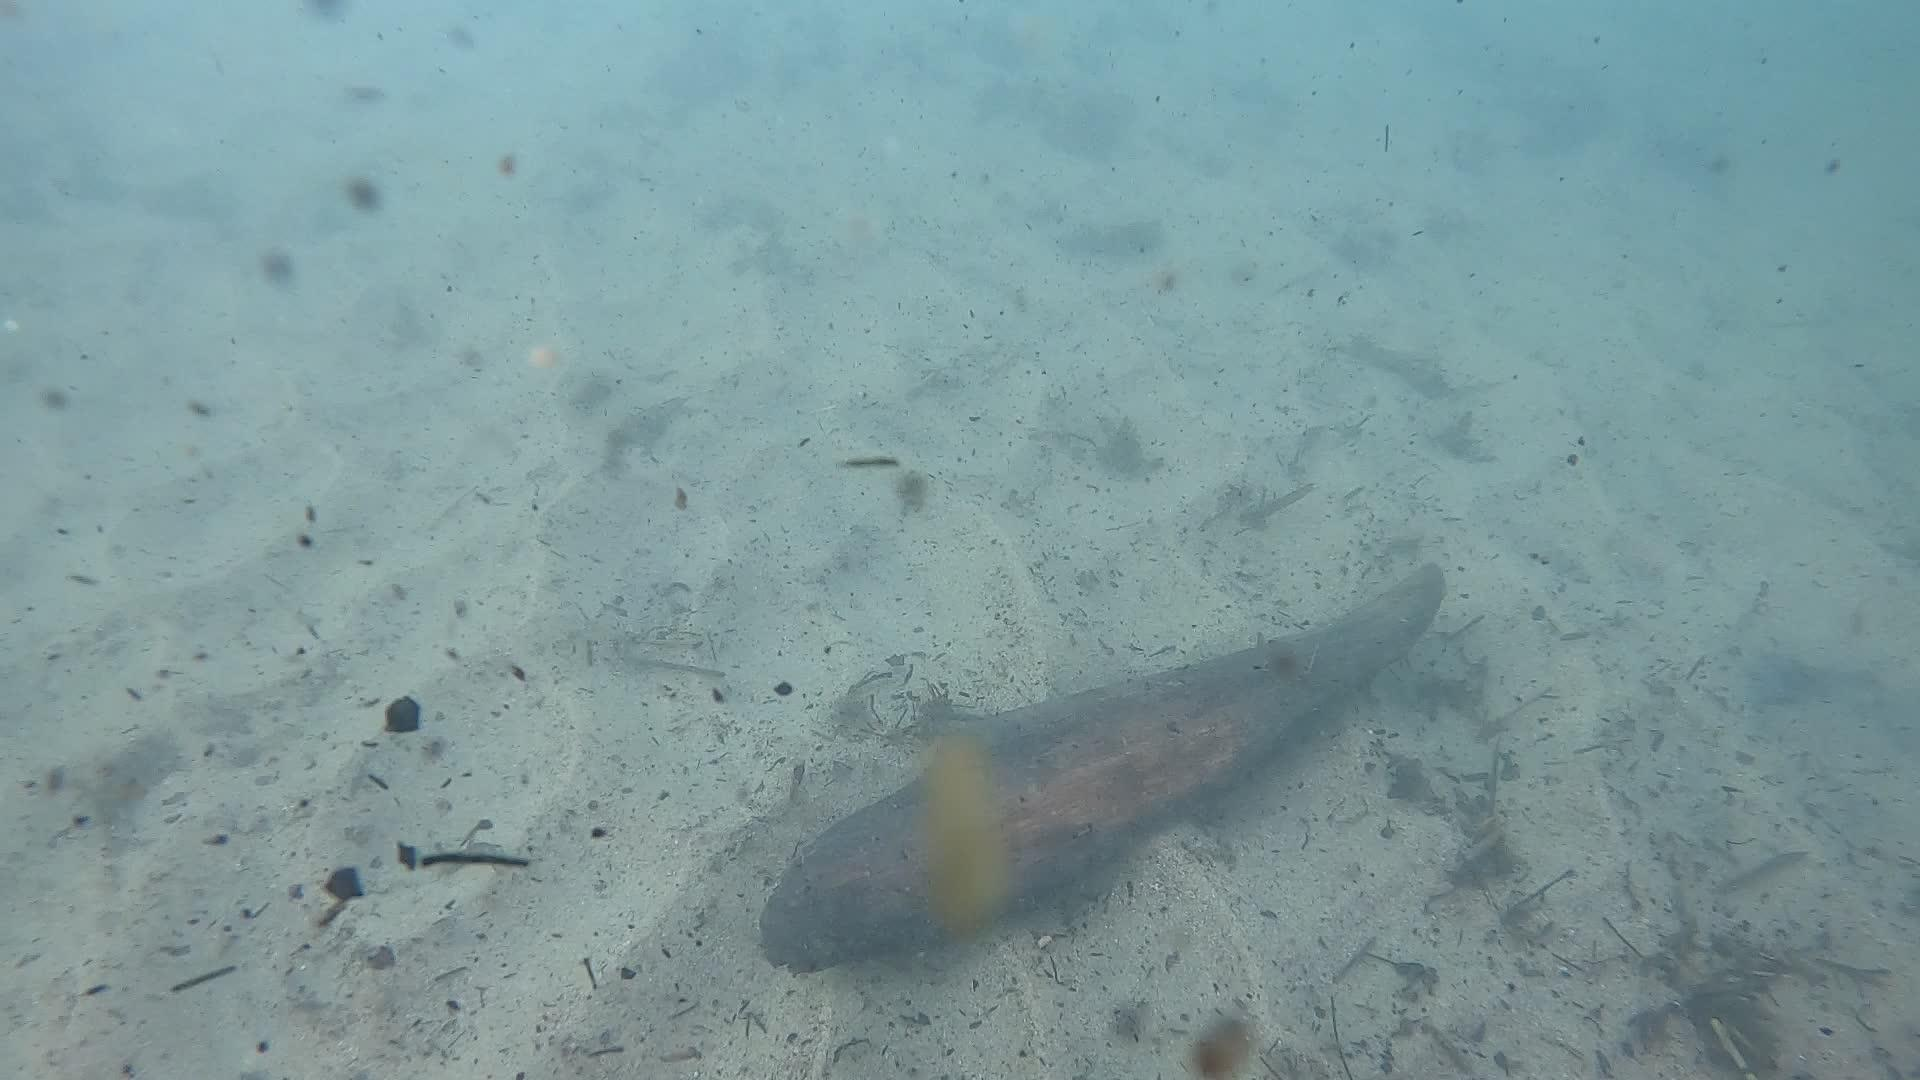wood: (757, 559, 1445, 975)
